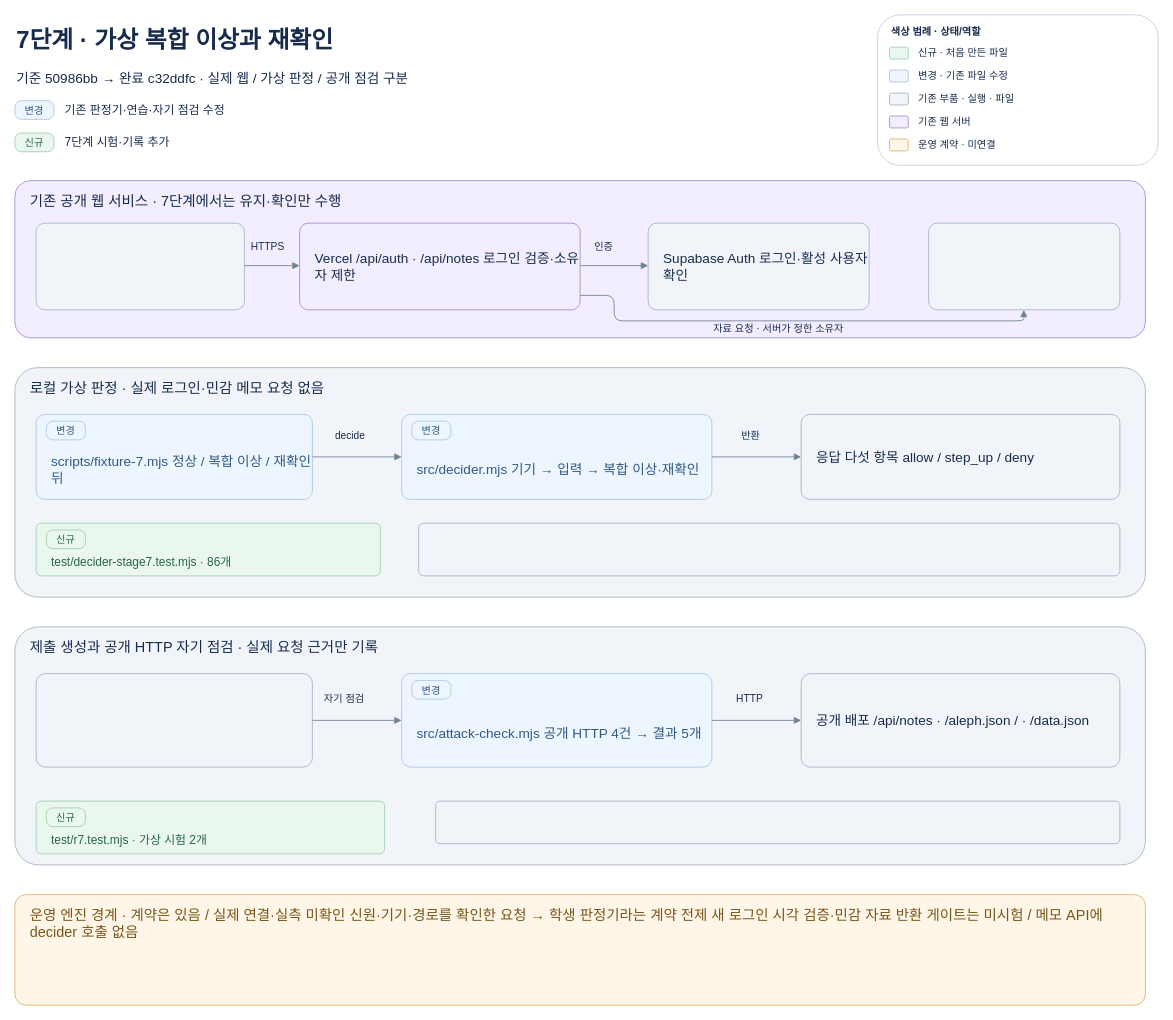
This 1173x1020 diagram has some shape labels left out. The shapes that lost their labels are listed below. From the top down, each one's centre as x and y in pixels, then its label:
At (139,266): "브라우저 로그인·본인 메모".
At (1024,266): "원본 자료 API · DB 기존 소유자 정책".
At (769,549): "엔진 검증 경계의 가상 값 · 브라우저 위치·인증 헤더를 읽지 않음".
At (173,720): "깨끗한 제출용 체크아웃 scripts/bundle.mjs 커밋·설정·설명·규칙 읽기".
At (777,822): "artifacts/submission.json · 실행 산출물 / Git 제외".
